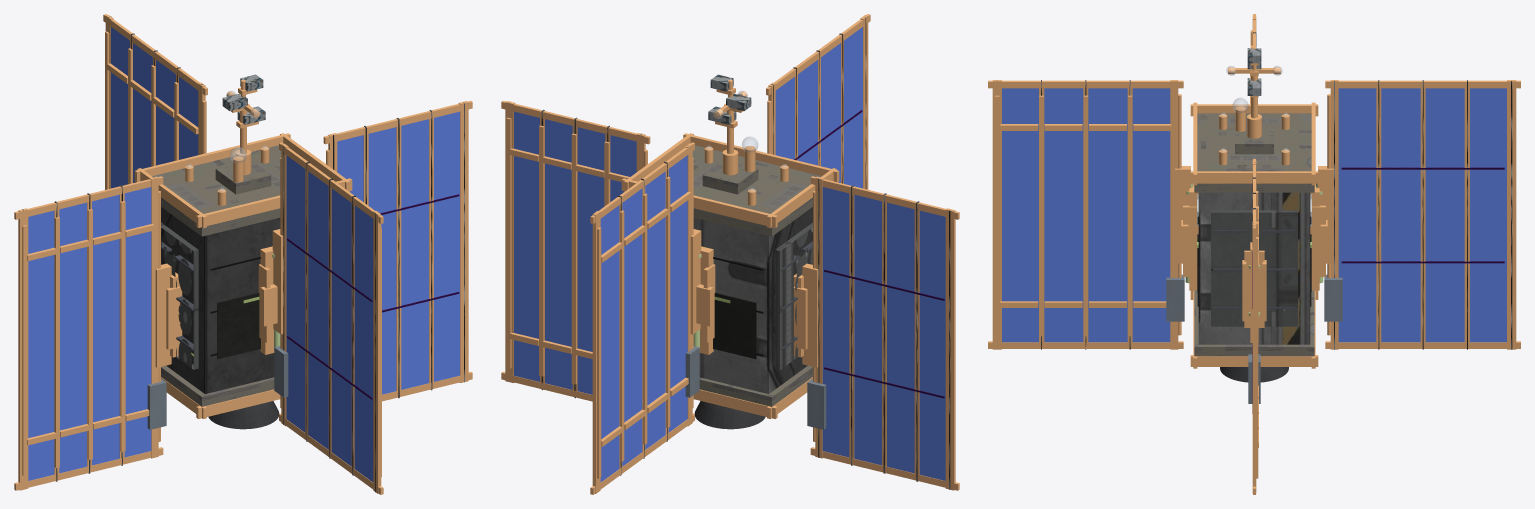
The model's file is satellite_with_articulated_solar_panels__0003.glb.
The picture shows the model from 3 angles, left to right: view 1: azimuth 30°, elevation 25°; view 2: azimuth 150°, elevation 25°; view 3: azimuth 270°, elevation 25°; orthographic projection. The views are drawn at different scales.
Parts seen in each view (by area): view 1: bus::main_bus, plus_x_solar_wing::panel_backing_2, plus_x_solar_wing::panel_backing_3, minus_x_solar_wing::panel_backing_1, minus_x_solar_wing::panel_backing_2, minus_x_solar_wing::panel_backing_3, minus_x_solar_wing::panel_backing_0, minus_y_solar_wing::panel_backing_1, minus_y_solar_wing::panel_backing_2, minus_y_solar_wing::panel_backing_3, minus_y_solar_wing::panel_backing_0, plus_x_solar_wing::panel_backing_1 (+51 smaller); view 2: bus::main_bus, minus_x_solar_wing::panel_backing_1, minus_x_solar_wing::panel_backing_2, minus_x_solar_wing::panel_backing_0, minus_x_solar_wing::panel_backing_3, plus_x_solar_wing::panel_backing_2, plus_x_solar_wing::panel_backing_3, plus_x_solar_wing::panel_backing_1, plus_y_solar_wing::panel_backing_1, plus_y_solar_wing::panel_backing_2, plus_y_solar_wing::panel_backing_3, bus::top_deck (+51 smaller); view 3: plus_y_solar_wing::panel_backing_1, plus_y_solar_wing::panel_backing_2, minus_y_solar_wing::panel_backing_2, minus_y_solar_wing::panel_backing_1, plus_y_solar_wing::panel_backing_0, plus_y_solar_wing::panel_backing_3, minus_y_solar_wing::panel_backing_0, minus_y_solar_wing::panel_backing_3, bus::radiator_plus_x, bus::main_bus, bus::top_deck, plus_y_solar_wing::outer_frame_rail (+29 smaller).
Boxes of the visible parts, x1,y1,x2,y2 form: bus::main_bus: (161,207,280,393); plus_x_solar_wing::panel_backing_2: (401,119,428,389); plus_x_solar_wing::panel_backing_3: (434,111,459,381); minus_x_solar_wing::panel_backing_1: (92,194,119,465); minus_x_solar_wing::panel_backing_2: (59,202,86,473); minus_x_solar_wing::panel_backing_3: (28,210,54,480); minus_x_solar_wing::panel_backing_0: (124,187,151,457); minus_y_solar_wing::panel_backing_1: (308,171,328,449); minus_y_solar_wing::panel_backing_2: (331,188,351,466); minus_y_solar_wing::panel_backing_3: (354,205,373,482); minus_y_solar_wing::panel_backing_0: (286,155,305,432); plus_x_solar_wing::panel_backing_1: (368,127,396,394); bus::main_bus: (693,207,812,393); minus_x_solar_wing::panel_backing_1: (854,194,881,465); minus_x_solar_wing::panel_backing_2: (887,202,914,473); minus_x_solar_wing::panel_backing_0: (822,187,849,457); minus_x_solar_wing::panel_backing_3: (919,210,945,480); plus_x_solar_wing::panel_backing_2: (545,119,572,389); plus_x_solar_wing::panel_backing_3: (514,111,539,381); plus_x_solar_wing::panel_backing_1: (577,127,605,394); plus_y_solar_wing::panel_backing_1: (645,171,665,449); plus_y_solar_wing::panel_backing_2: (622,188,642,466); plus_y_solar_wing::panel_backing_3: (600,205,619,482); bus::top_deck: (692,145,821,236); plus_y_solar_wing::panel_backing_1: (1381,88,1420,342); plus_y_solar_wing::panel_backing_2: (1425,88,1464,342); minus_y_solar_wing::panel_backing_2: (1044,88,1083,342); minus_y_solar_wing::panel_backing_1: (1088,88,1127,342); plus_y_solar_wing::panel_backing_0: (1338,88,1376,342); plus_y_solar_wing::panel_backing_3: (1470,88,1506,342); minus_y_solar_wing::panel_backing_0: (1132,88,1170,342); minus_y_solar_wing::panel_backing_3: (1002,88,1038,342); bus::radiator_plus_x: (1211,210,1297,326); bus::main_bus: (1198,192,1310,344); bus::top_deck: (1194,113,1314,192); plus_y_solar_wing::outer_frame_rail: (1507,80,1516,349).
Bounding box in the file's own units: 4.4 × 3.26 × 4.63.
Materials: 19 (15 with a texture image).
